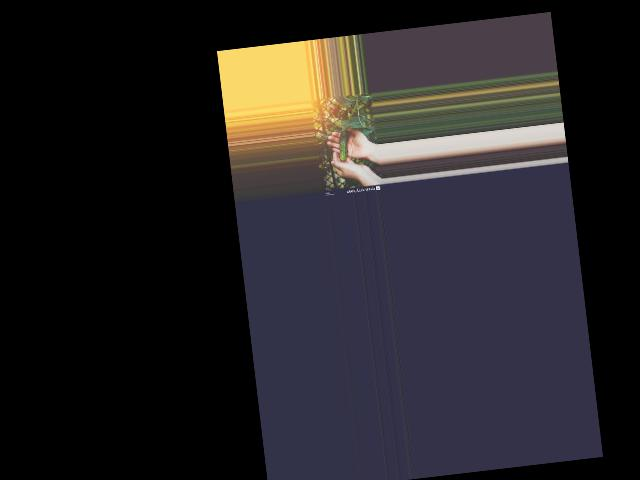cucumber: (336, 130, 351, 161)
